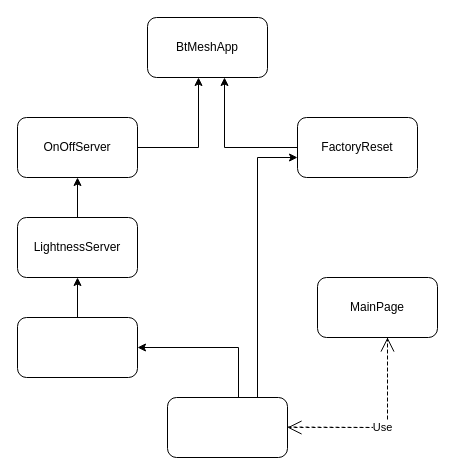
Some shapes in this 455 by 475 pixel diagram are drawn without their labels. The shapes that lost their labels are listed below. From the top down, each one's box as (x1, y1, x2, y2) in pixels, then its label:
(16, 316, 138, 378): CTLServer
(166, 396, 288, 458): App
